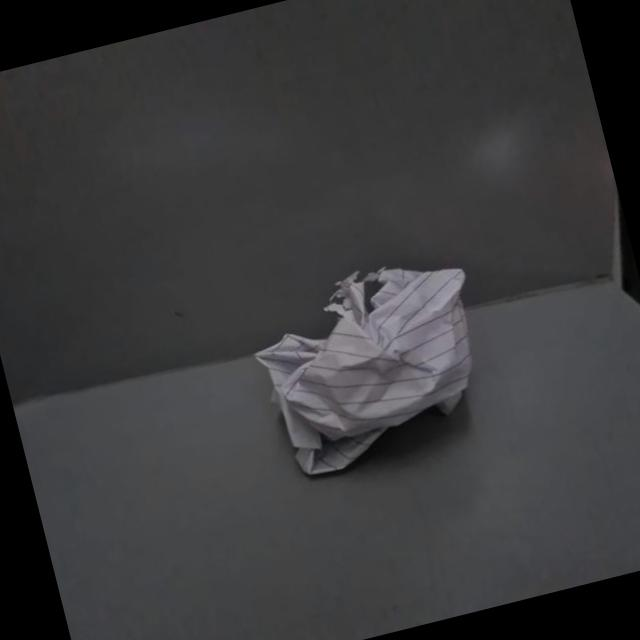cardboard paper: (256, 266, 471, 471)
